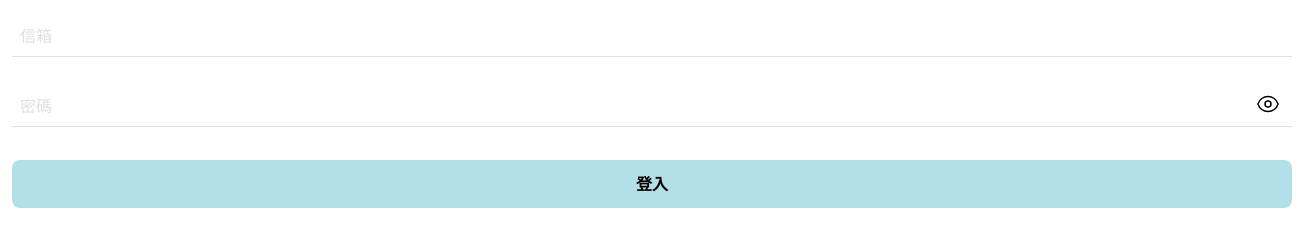
Test: #LoginPanel › should show login error error message
In the field with placeholder "信箱": (652, 34) [12,12,1292,56], type "test@example.com"
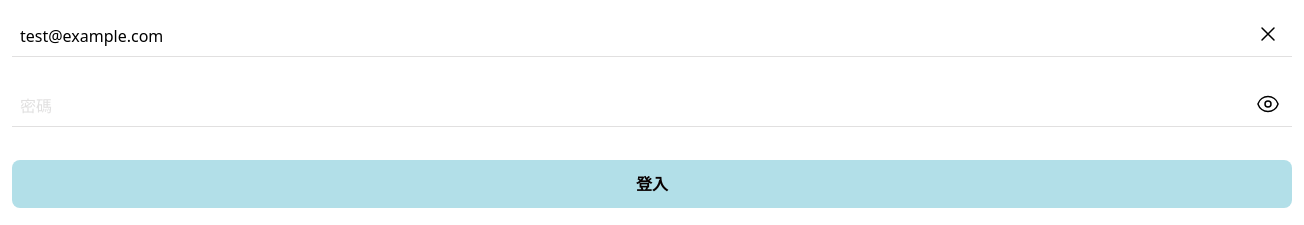
In the password field with placeholder "密碼": (652, 104) [12,82,1292,126], type "password"
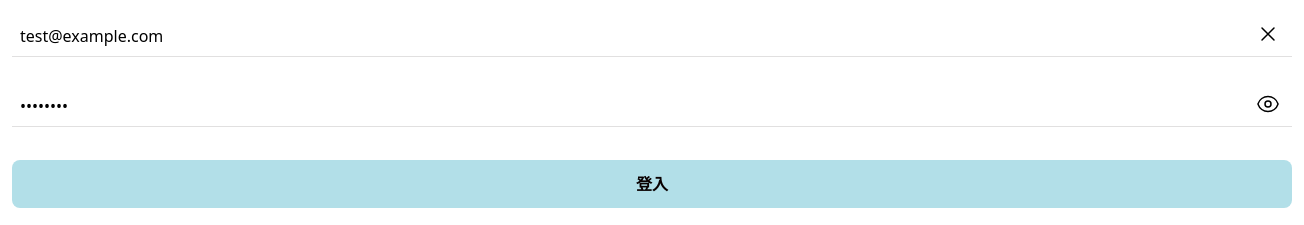
Click the button "登入": (652, 184) [12,160,1292,208]
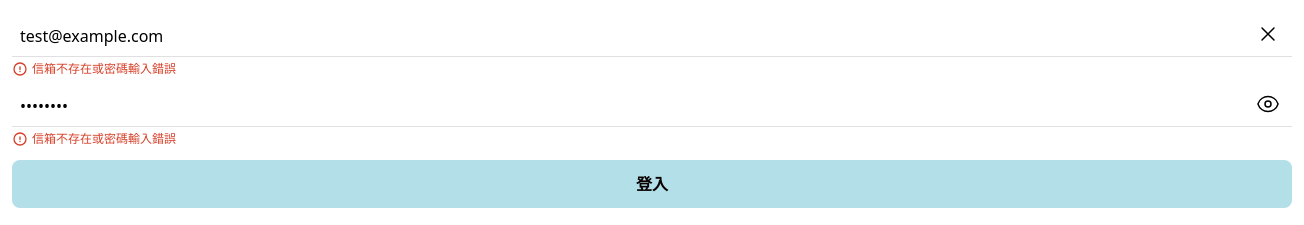
Check: the text "信箱不存在或密碼輸入錯誤" is shown 2 times, box [32,61,176,77]; [32,131,176,147]
